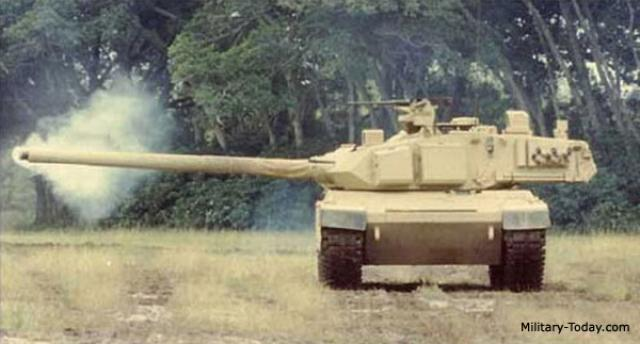tank: (316, 99, 596, 282)
